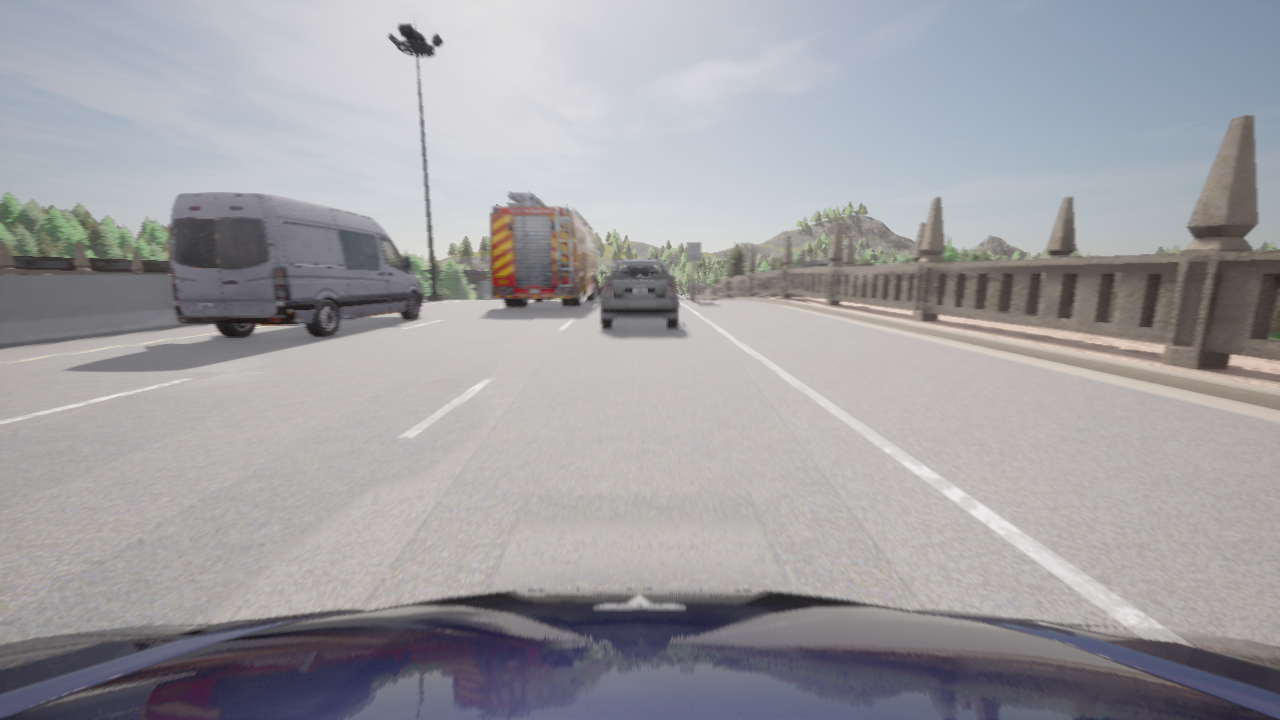cyclist: (0, 588, 1279, 719), (167, 193, 422, 336), (490, 192, 601, 306), (601, 259, 678, 328), (595, 286, 603, 299), (546, 298, 550, 299)
